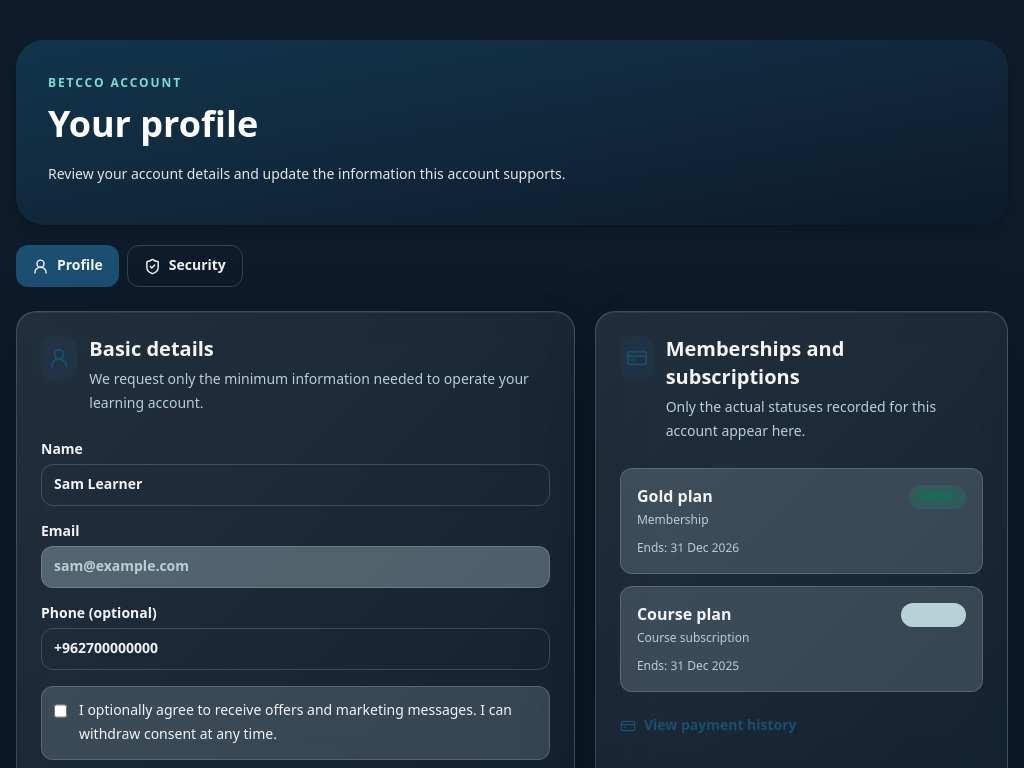
student account, purchases, and organizer in en › renders account copy and preserves profile update payload
Expected: the heading "Basic details" is shown, [89,329,214,371]
Expected: the field labelled "Phone (optional)" is shown, [41,628,550,670]
Replace the text in the field labelled "Name" with "  New Learner  ": (295, 485) [41,464,550,506]
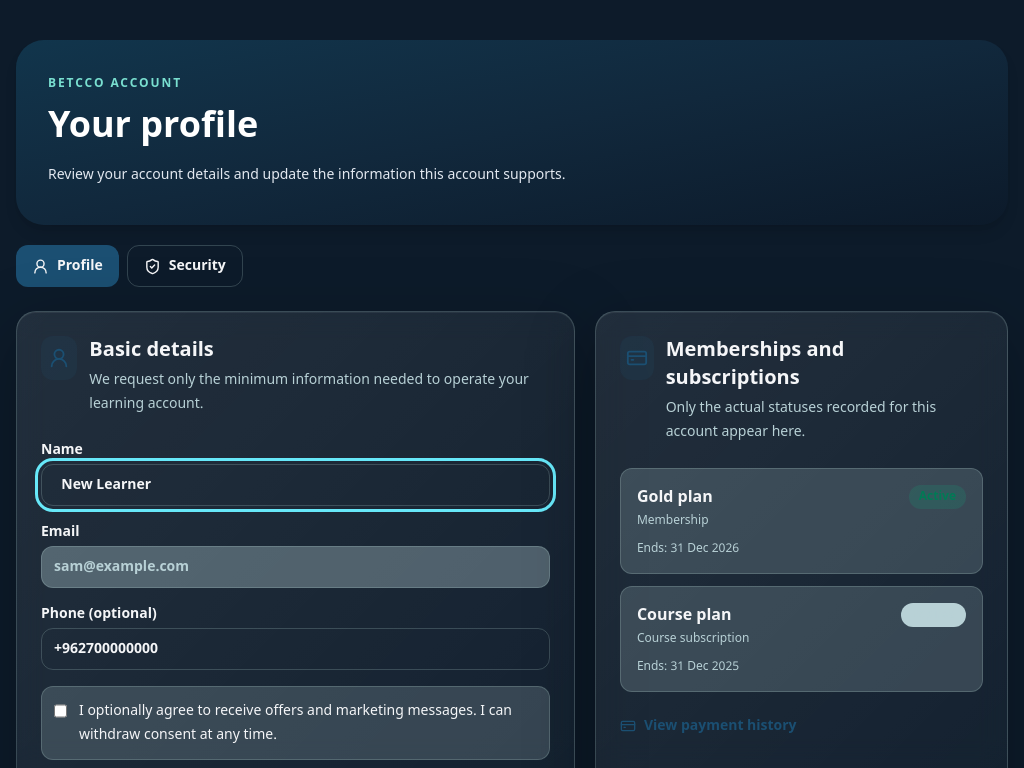
Clear the field labelled "Phone (optional)": (295, 649) [41,628,550,670]
(page scrolled)
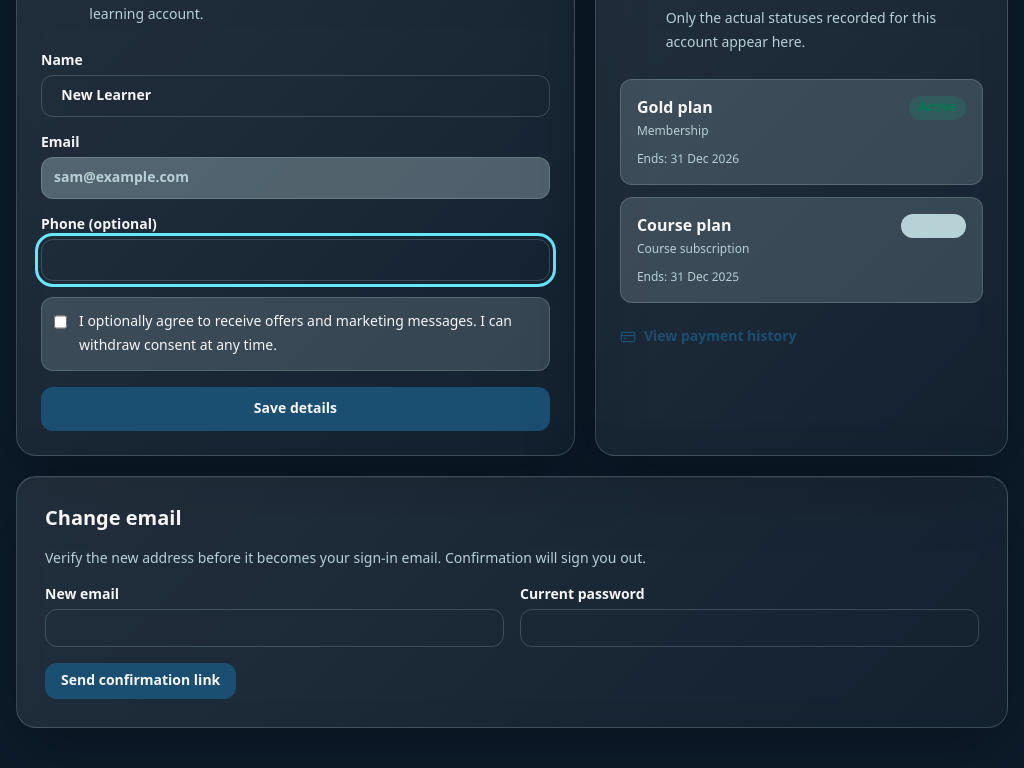
Click the button "Save details": (295, 409) [41,387,550,431]
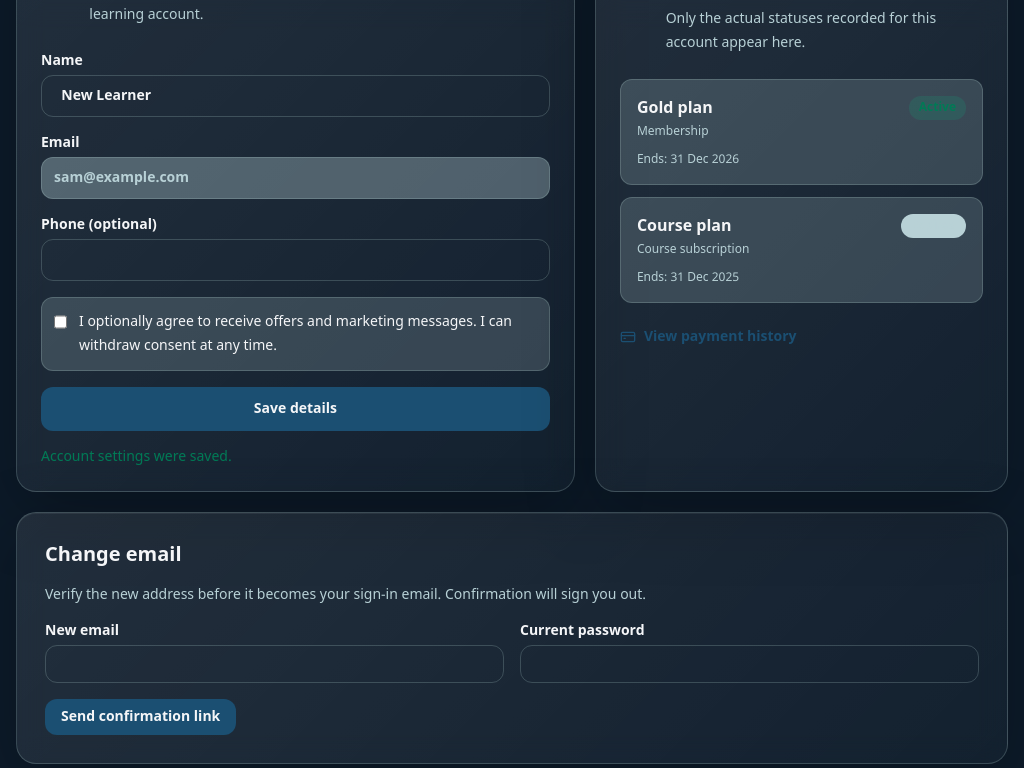
Now the message reads "Account settings were saved.", box [41,442,232,471]
